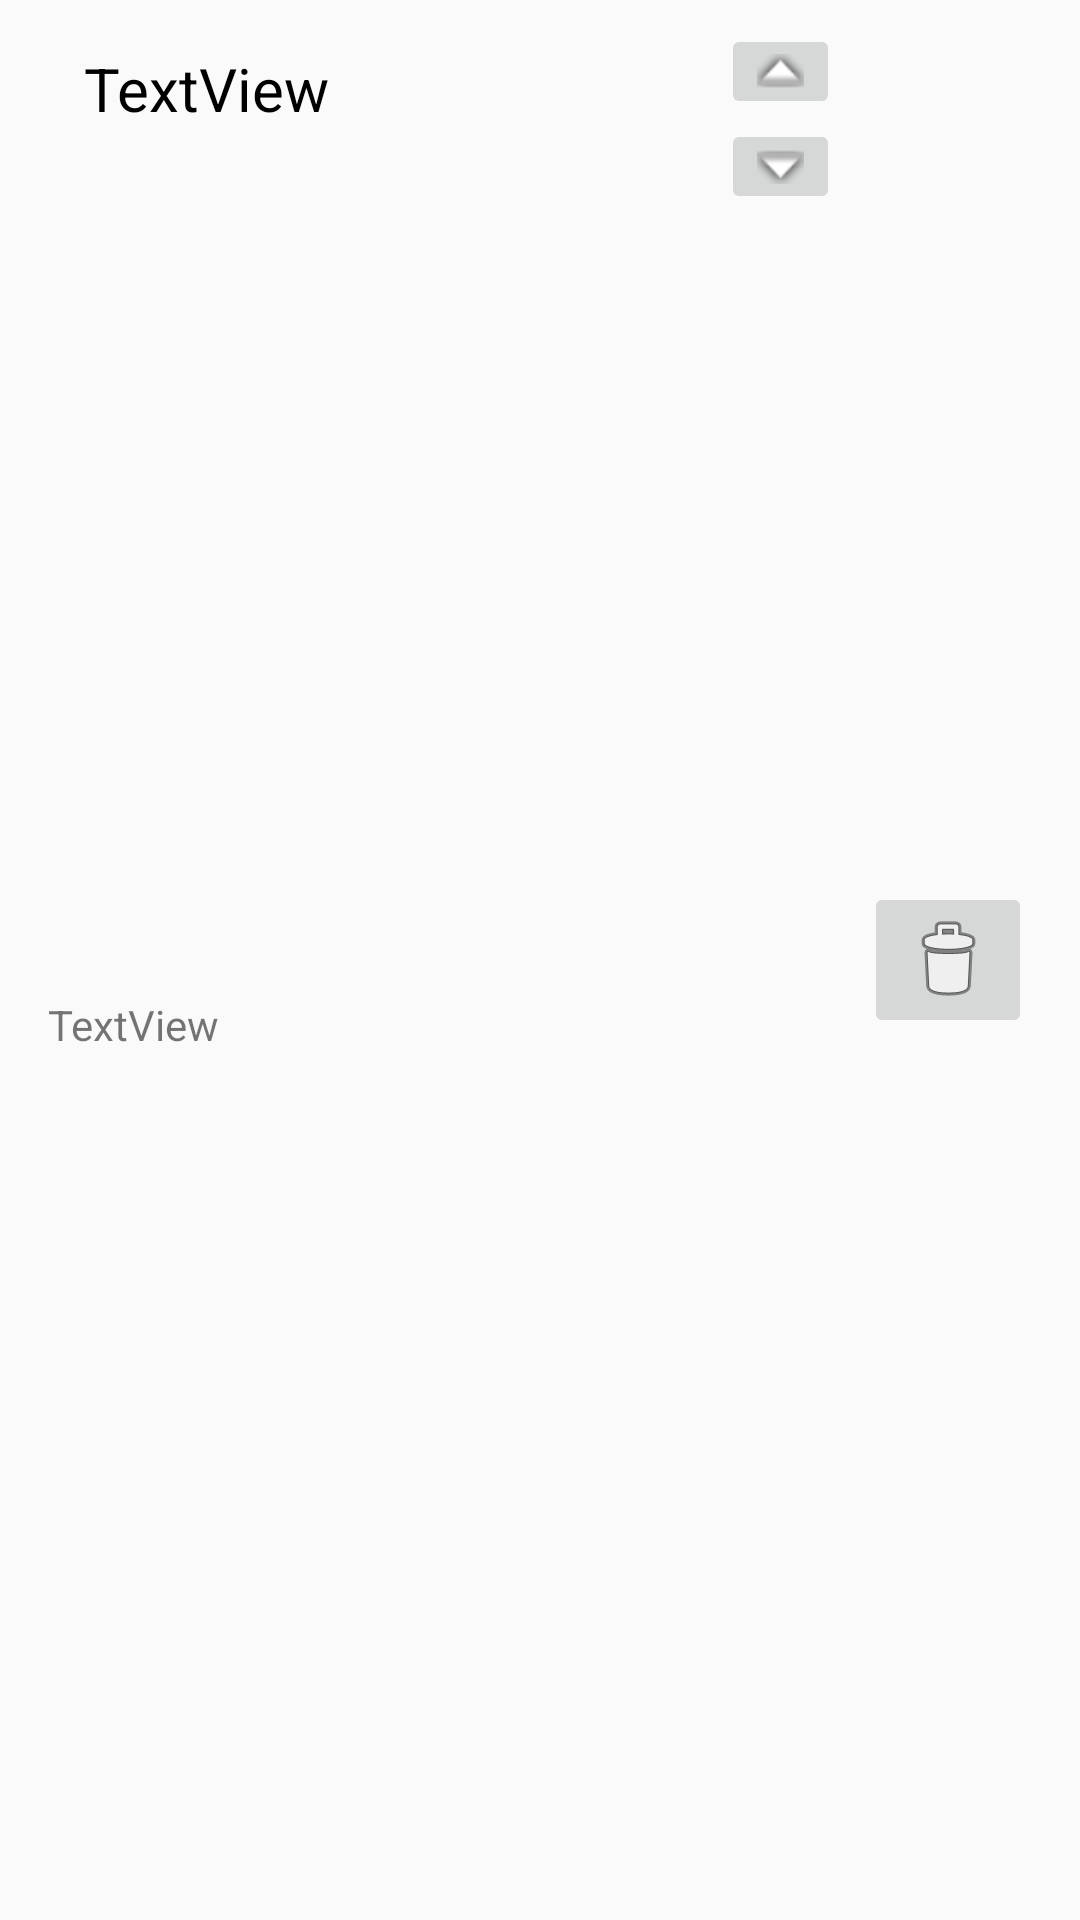

Where icons sit on this 1080*1920 app screen, as box=[x1, y1, x2, y2]:
arrow down float: box=[733, 137, 828, 196]
arrow up float: box=[733, 42, 828, 101]
delete: box=[876, 900, 1020, 1020]
